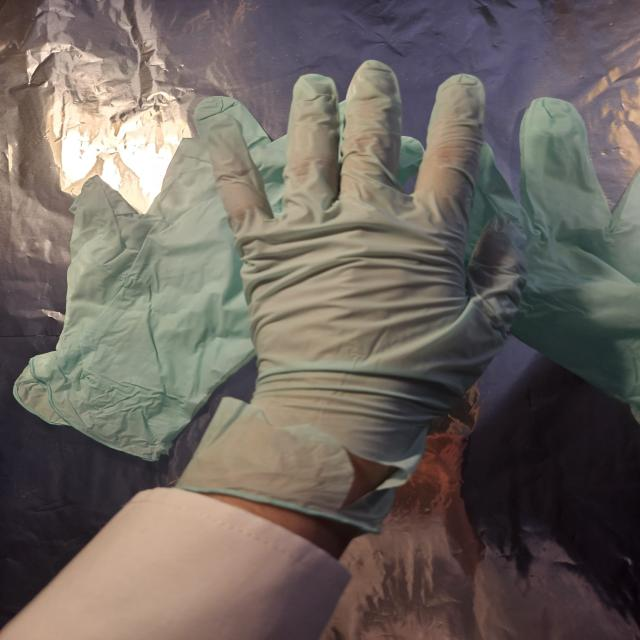gloves_damaged: (189, 59, 536, 537)
